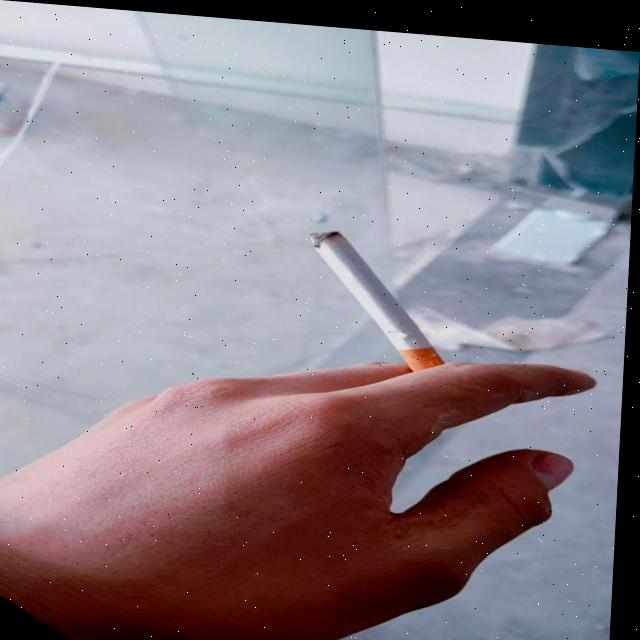cigarette: (308, 221, 452, 368)
